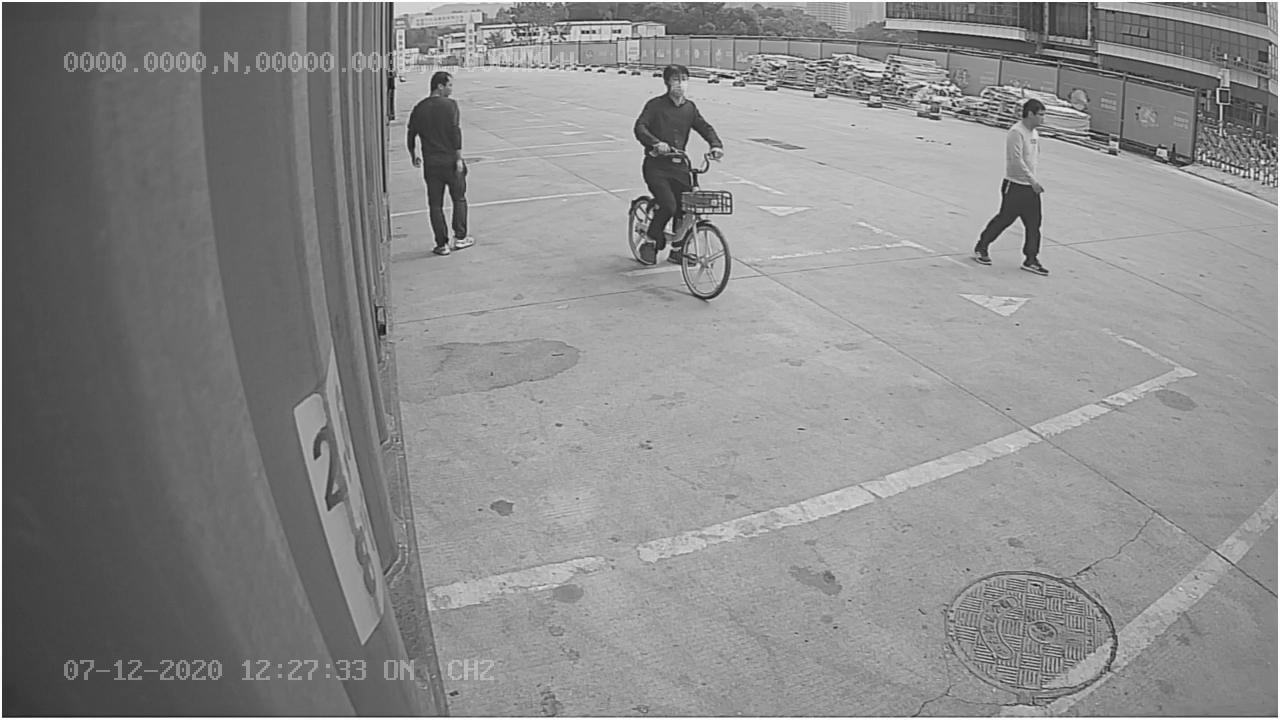person: (403, 69, 479, 260)
